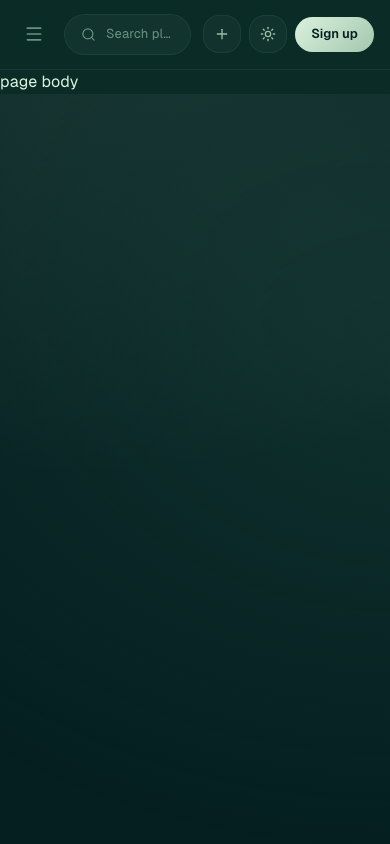
AppShell › Escape closes the open drawer
Step 1. Click the button named "Open menu" → (34, 34), box [16,16,52,52]
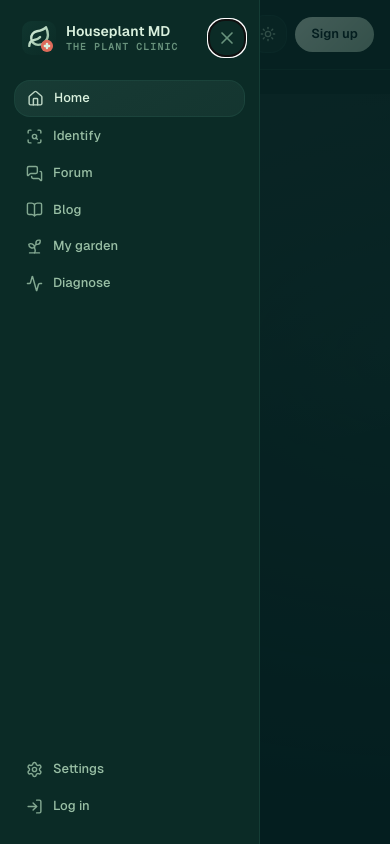
Result: the dialog named "Menu" is shown
Step 2. Press Escape
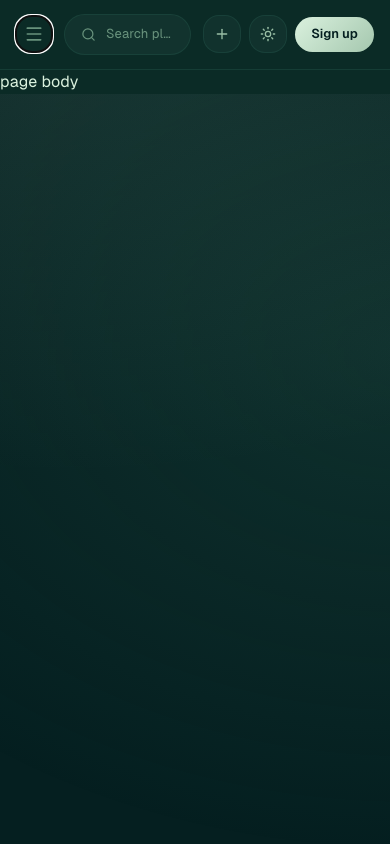
Result: the button "Menu" is gone
